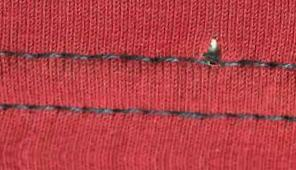hole: (201, 33, 227, 60)
